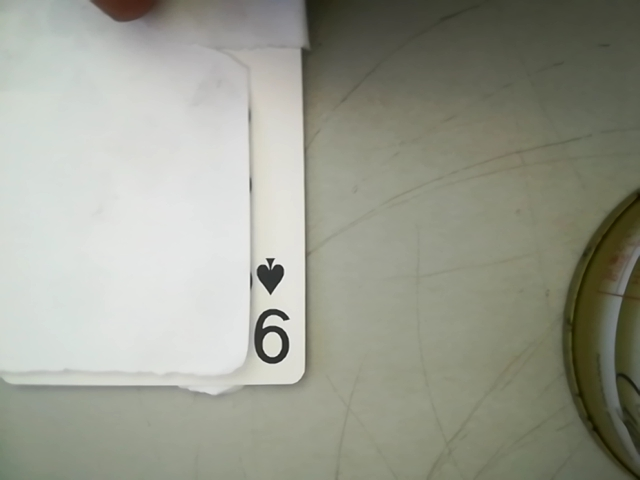ht 9: (236, 243, 305, 375)
